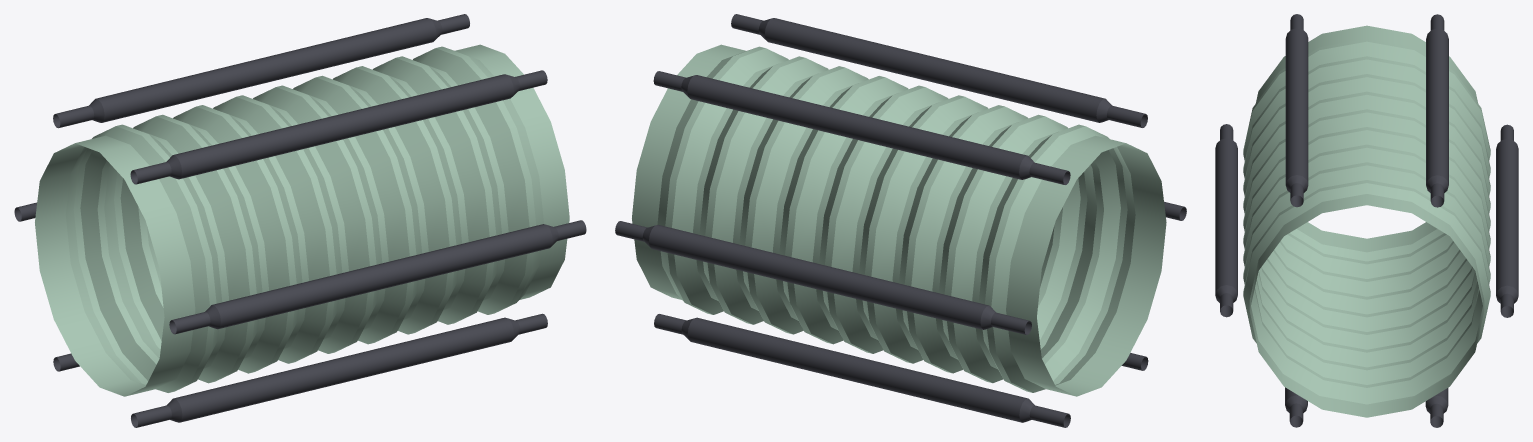
Rendered from PipeLarge_ZigZagZhing_Short.fbx.
3 renders of one model, left to right at view 1: azimuth 30°, elevation 25°; view 2: azimuth 150°, elevation 25°; view 3: azimuth 270°, elevation 25°, orthographic. The views are drawn at different scales.
Parts seen in each view (by area): view 1: PipeLarge_ZigZagZhing_Short.001; view 2: PipeLarge_ZigZagZhing_Short.001; view 3: PipeLarge_ZigZagZhing_Short.001.
Part boxes in pixels (<box>): PipeLarge_ZigZagZhing_Short.001: <box>14,14,586,427</box>; PipeLarge_ZigZagZhing_Short.001: <box>615,14,1186,427</box>; PipeLarge_ZigZagZhing_Short.001: <box>1215,14,1518,427</box>.
Bounding box in the file's own units: 0.367 × 0.2278 × 0.2597.
